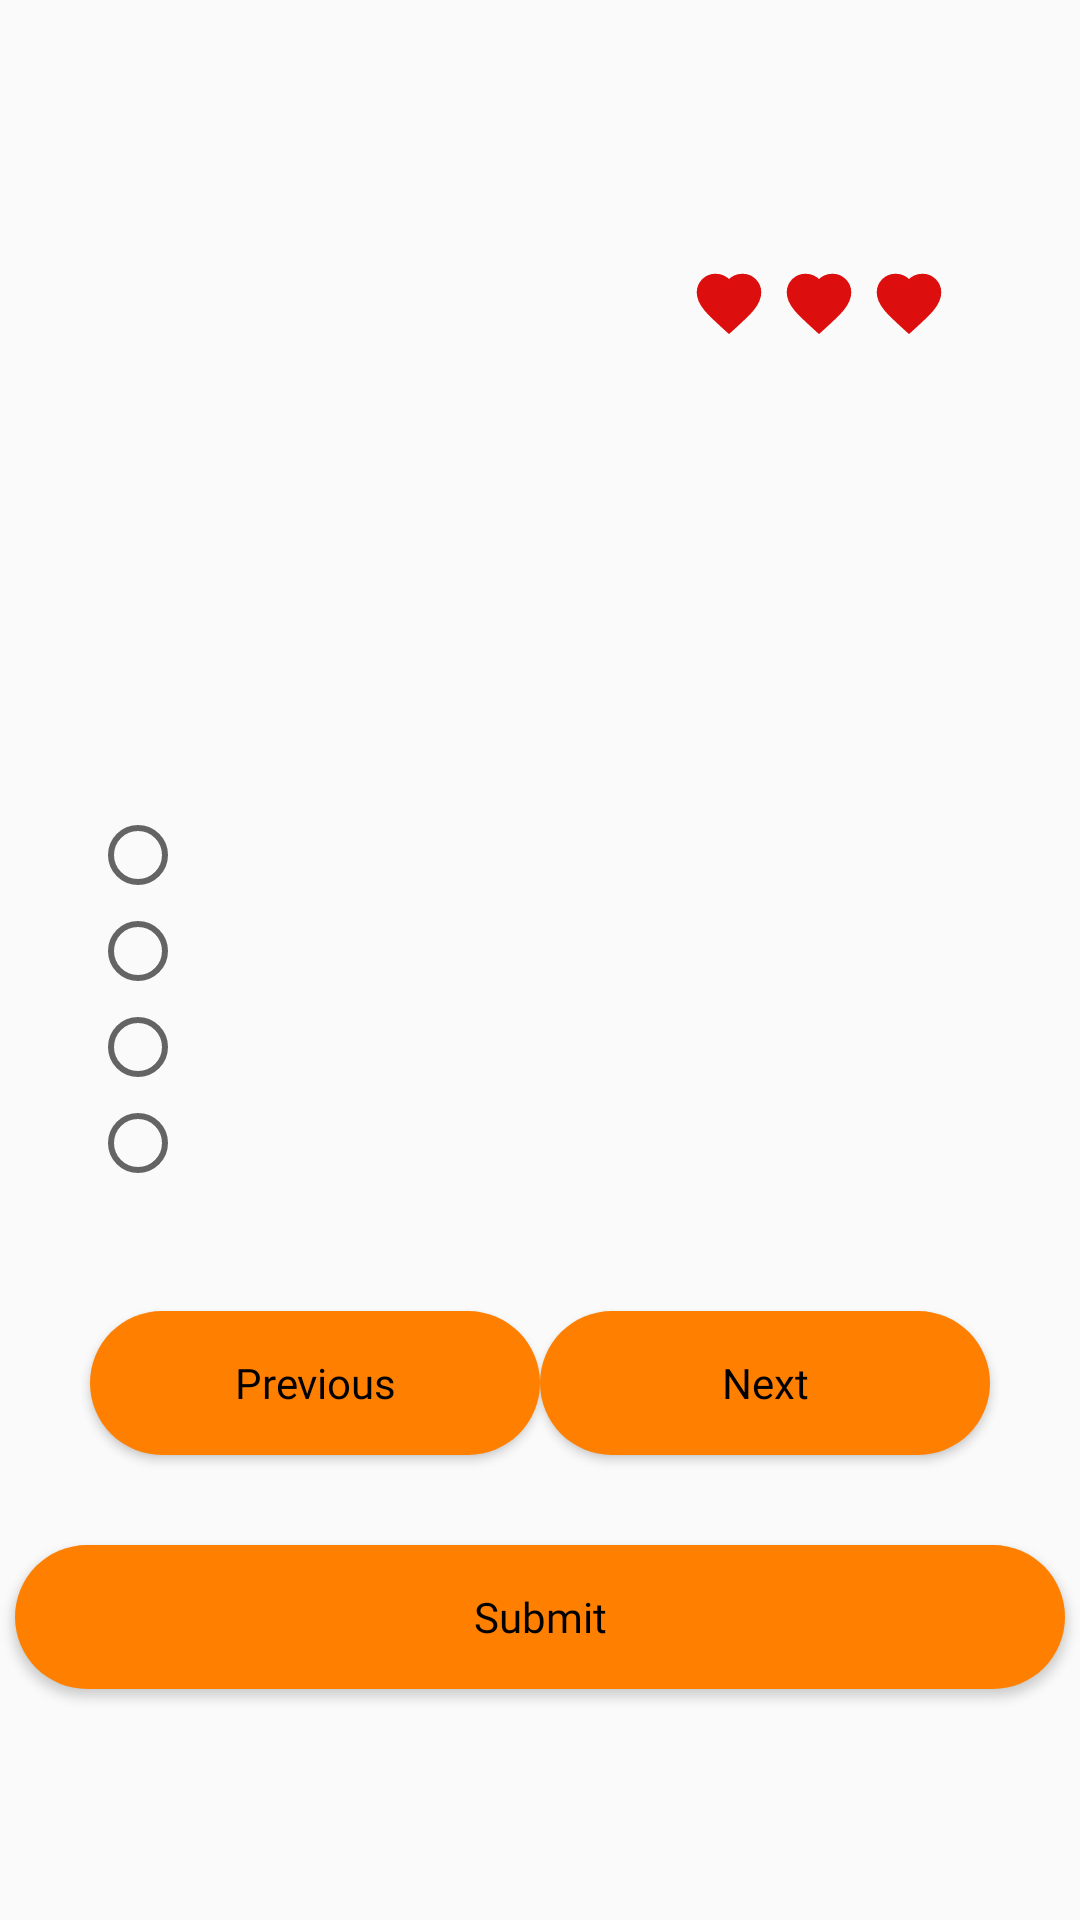

Named icons in this screenshot (1080×1920) and their bounding boxes, (x1, y1, x2, y2):
heart enable: (696, 273, 762, 334), (786, 273, 852, 334), (876, 273, 942, 334)
